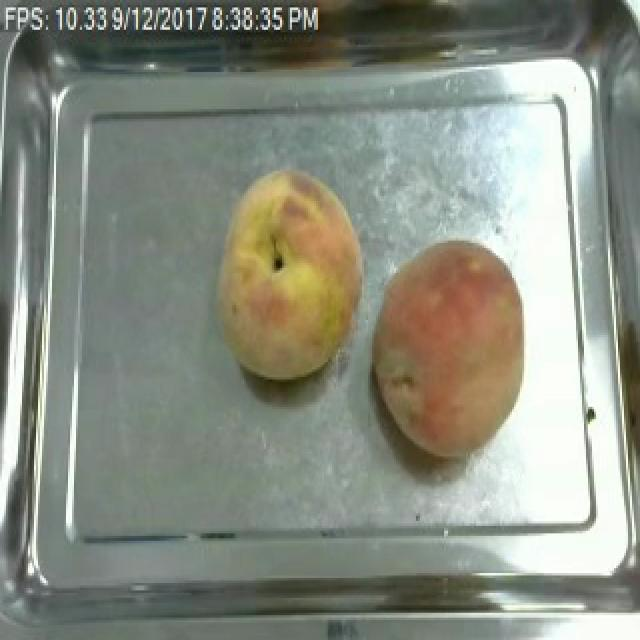Fruit: (364, 233, 536, 464), (206, 162, 374, 390)
